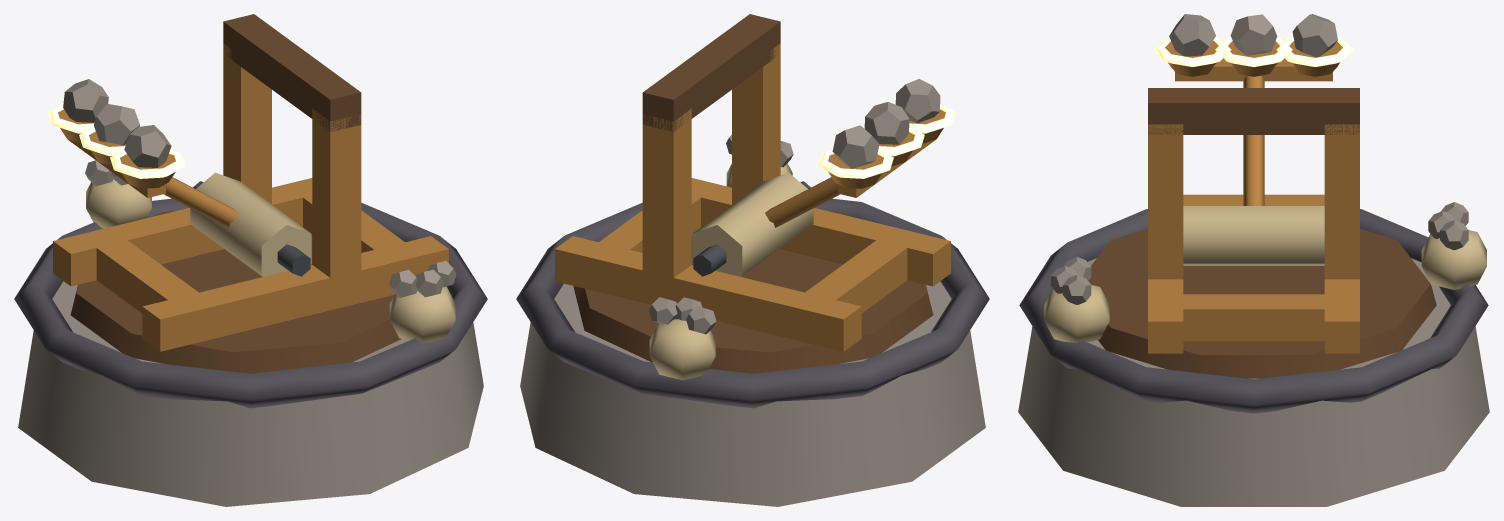
The model's file is tower_catapult_rockStorm.glb.
3 renders of one model, left to right at view 1: azimuth 30°, elevation 25°; view 2: azimuth 150°, elevation 25°; view 3: azimuth 270°, elevation 25°, orthographic.
Parts seen in each view (by area): view 1: base, base_rim, turntable, rail_l, upright_l, stop_bar, rail_r, torsion_rope, cross_w, upright_r, net_sack_0, net_sack_1 (+10 smaller); view 2: base, base_rim, turntable, rail_r, upright_r, stop_bar, rail_l, torsion_rope, cross_w, upright_l, net_sack_1, cross_e (+9 smaller); view 3: base, turntable, base_rim, stop_bar, torsion_rope, cross_e, upright_l, upright_r, net_sack_1, net_sack_0, rail_l, rail_r (+14 smaller).
Part boxes in pixels (x1,y1,x2,y2): base: [18, 281, 483, 506]; base_rim: [14, 198, 487, 408]; turntable: [70, 210, 401, 373]; rail_l: [142, 236, 448, 351]; upright_l: [312, 108, 361, 277]; stop_bar: [223, 14, 361, 131]; rail_r: [53, 184, 312, 286]; torsion_rope: [190, 172, 311, 276]; cross_w: [83, 227, 216, 345]; upright_r: [223, 43, 271, 204]; net_sack_0: [389, 286, 455, 343]; net_sack_1: [86, 179, 151, 228]; base: [520, 281, 985, 506]; base_rim: [516, 198, 989, 408]; turntable: [573, 210, 933, 373]; rail_r: [555, 236, 861, 351]; upright_r: [642, 108, 691, 277]; stop_bar: [642, 14, 780, 131]; rail_l: [691, 179, 950, 286]; torsion_rope: [692, 172, 813, 276]; cross_w: [787, 227, 918, 345]; upright_l: [732, 43, 780, 204]; net_sack_1: [649, 319, 715, 380]; cross_e: [581, 178, 718, 294]; base: [1018, 258, 1489, 506]; turntable: [1088, 228, 1436, 378]; base_rim: [1019, 209, 1488, 413]; stop_bar: [1148, 88, 1359, 134]; torsion_rope: [1183, 206, 1324, 265]; cross_e: [1148, 294, 1359, 341]; upright_l: [1148, 124, 1183, 279]; upright_r: [1324, 124, 1359, 279]; net_sack_1: [1421, 230, 1486, 289]; net_sack_0: [1044, 285, 1109, 342]; rail_l: [1148, 279, 1183, 353]; rail_r: [1324, 279, 1359, 353].
Bounding box in the file's own units: 0.398 × 0.315 × 0.4.
